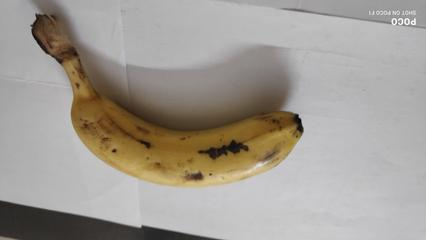banana: (68, 79, 307, 191)
